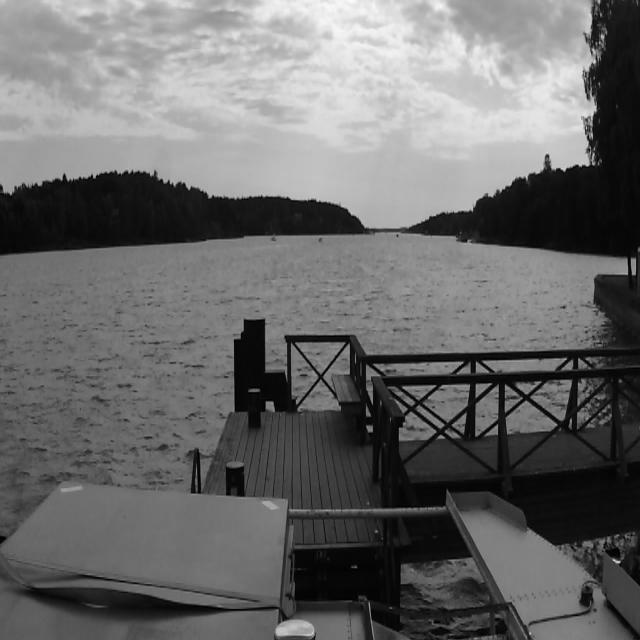ship: (271, 229, 277, 243), (318, 238, 323, 244)
